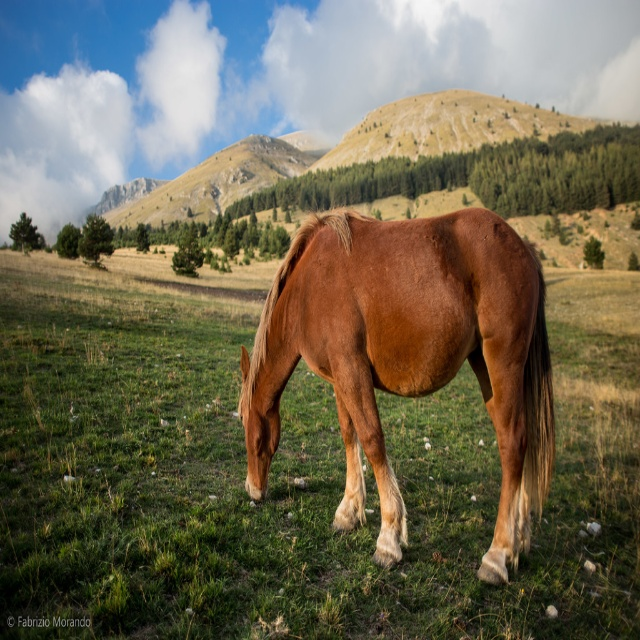Horse: (235, 208, 558, 590)
